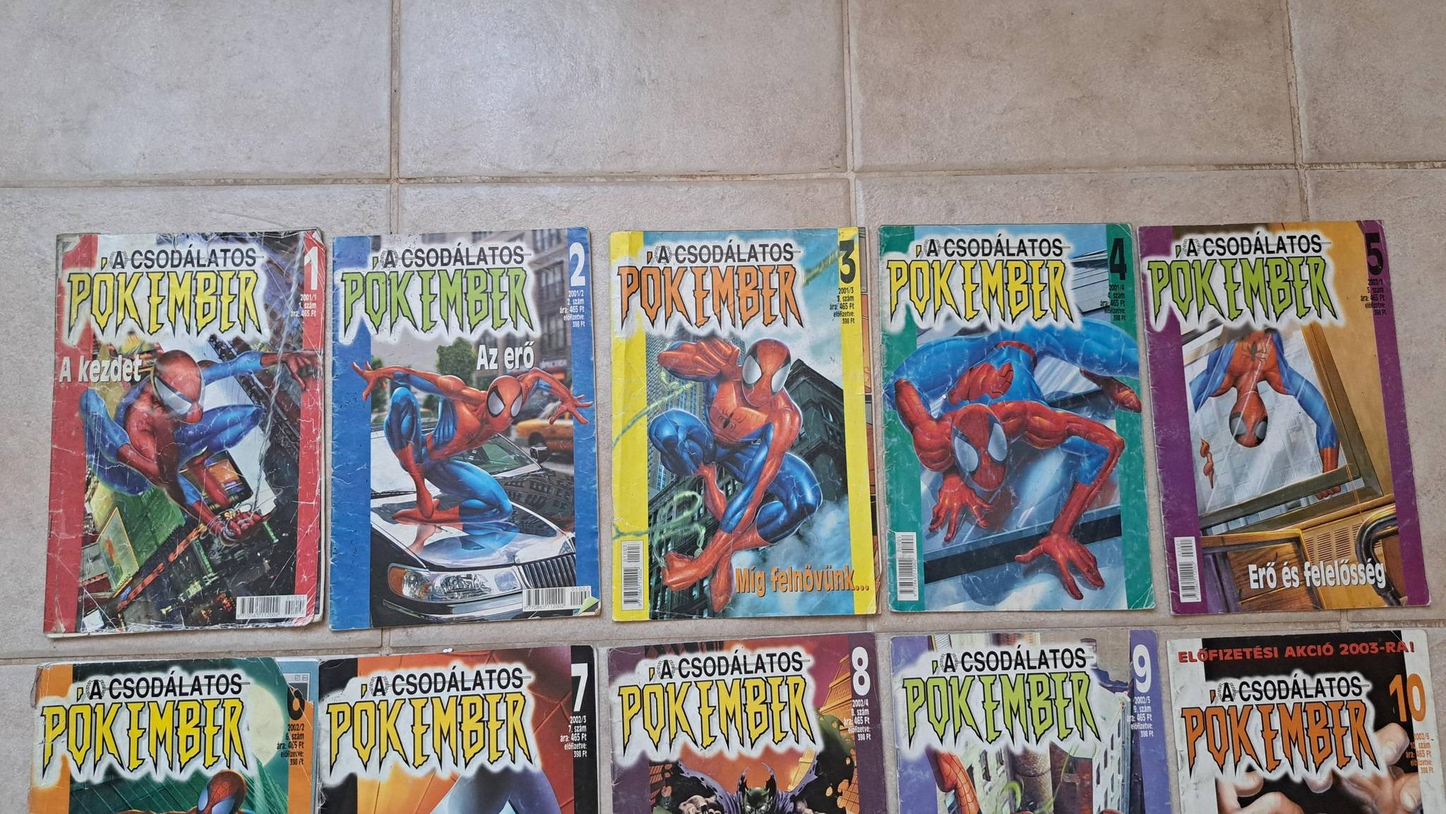comic: (1136, 205, 1429, 627), (44, 222, 332, 643), (316, 227, 603, 629), (875, 219, 1153, 615), (607, 228, 876, 620)
